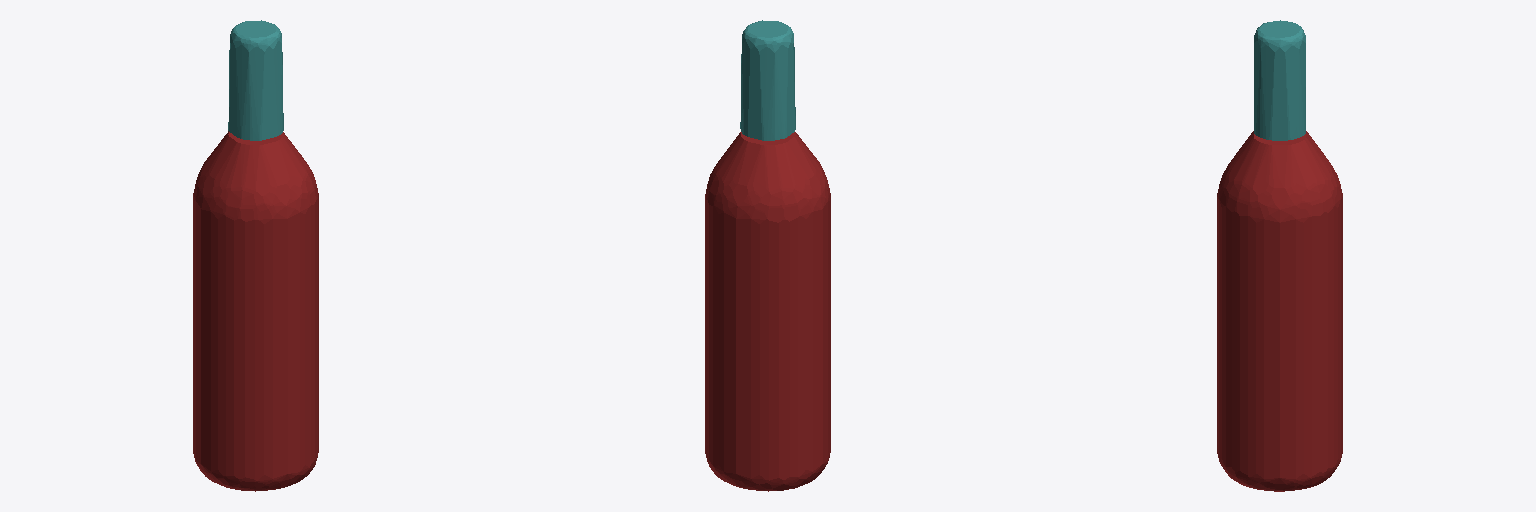
URDF robot description (root):
<robot name="root">
  <link name="bottle_body">
    <inertial>
      <origin xyz="0 0 0" rpy="0 0 0"/>
    </inertial>
    <mass value="1.00E-02"/>
    <visual>
      <origin xyz="0 0 0" rpy="0 0 0"/>
      <geometry>
        <mesh filename="core-bottle-684ff2b770c26616d3dfba73f54d35bb-coacd_convex_piece_1.obj" scale="1.0000E-01 1.0000E-01 1.0000E-01"/>
      </geometry>
      <material name="">
        <color rgba="6.00E-01 2.00E-01 2.00E-01 1"/>
      </material>
    </visual>
    <collision>
      <origin xyz="0 0 0" rpy="0 0 0"/>
      <geometry>
        <mesh filename="core-bottle-684ff2b770c26616d3dfba73f54d35bb-coacd_convex_piece_1.obj" scale="1.0000E-01 1.0000E-01 1.0000E-01"/>
      </geometry>
    </collision>
  </link>
  <link name="bottle_cap">
    <origin xyz="0 0 0.002" rpy="0 0 0"/>
    <mass value="1.00E-02"/>
    <visual>
      <origin xyz="0 0 0.002" rpy="0 0 0"/>
      <geometry>
        <mesh filename="core-bottle-684ff2b770c26616d3dfba73f54d35bb-coacd_convex_piece_0.obj" scale="1.0000E-01 1.0000E-01 1.0000E-01"/>
      </geometry>
      <material name="">
        <color rgba="3.00E-01 6.00E-01 6.00E-01 1"/>
      </material>
    </visual>
    <collision>
      <origin xyz="0 0 0.002" rpy="0 0 0"/>
      <geometry>
        <mesh filename="core-bottle-684ff2b770c26616d3dfba73f54d35bb-coacd_convex_piece_0.obj" scale="1.0000E-01 1.0000E-01 1.0000E-01"/>
      </geometry>
    </collision>
  </link>
  <joint name="bottle_cap_joint" type="revolute">
    <origin xyz="0 0 0" rpy="0 0 0"/>
    <parent link="bottle_body"/>
    <child link="bottle_cap"/>
    <axis xyz="0 0 1"/>
    <limit lower="0.00" upper="6.28"/>
    <dynamics damping="0.05"/>
  </joint>
</robot>

--- Facts derived from the render (not from the file) ---
Views: 3 orthographic renders of the robot side by side, from view 1: azimuth 30°, elevation 25°; view 2: azimuth 150°, elevation 25°; view 3: azimuth 270°, elevation 25°.
Model root with 2 links and 1 joints (1 revolute), rooted at bottle_body, posed every joint at zero.
Links seen in each view (by area): view 1: bottle_body, bottle_cap; view 2: bottle_body, bottle_cap; view 3: bottle_body, bottle_cap.
Boxes of the visible links, <box> form: bottle_body: <box>193,131,318,491</box>; bottle_cap: <box>228,20,283,140</box>; bottle_body: <box>705,132,830,491</box>; bottle_cap: <box>740,20,795,140</box>; bottle_body: <box>1217,131,1342,491</box>; bottle_cap: <box>1254,20,1305,140</box>.
Bounding box of the posed robot: 0.0503 × 0.0503 × 0.195 m (x, y, z).
2 mesh visuals loaded from 2 distinct referenced files (2 OBJ).